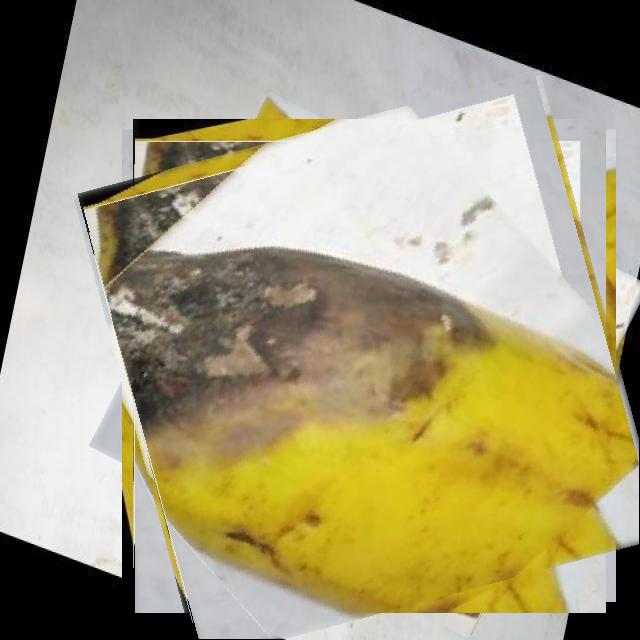Podre: (101, 98, 638, 636)
